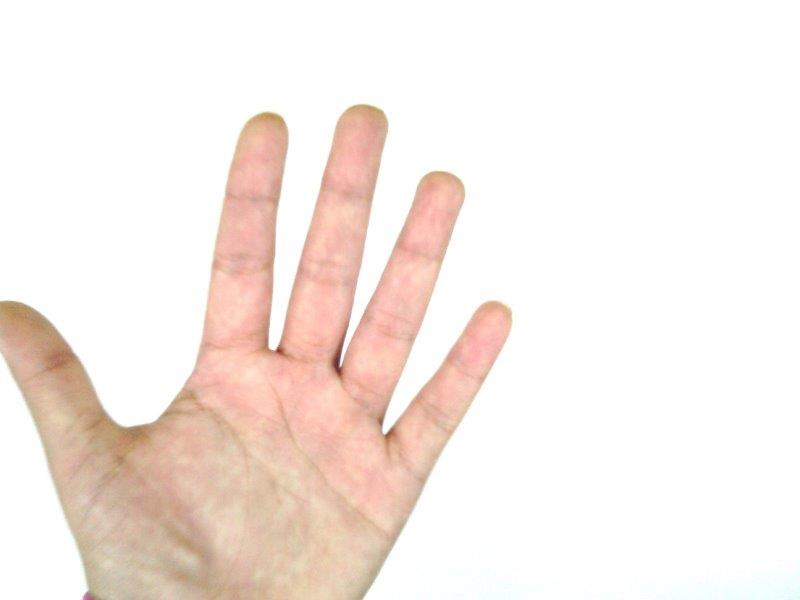hand: (1, 106, 512, 600)
